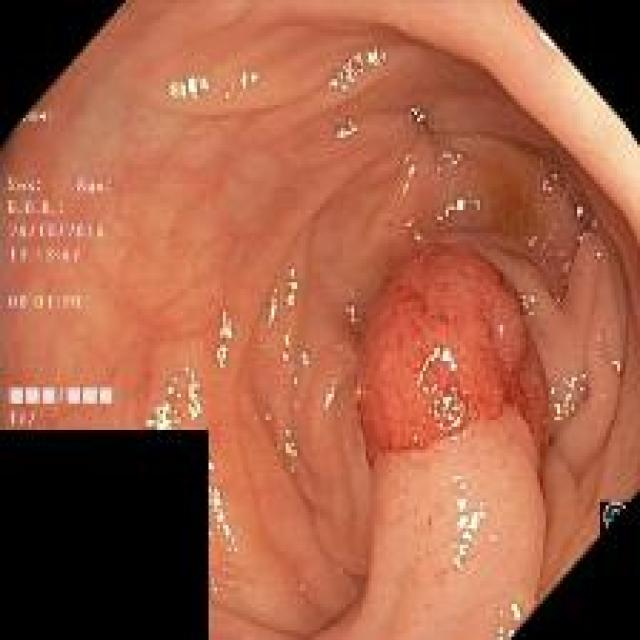Polyps: (359, 244, 549, 465)
